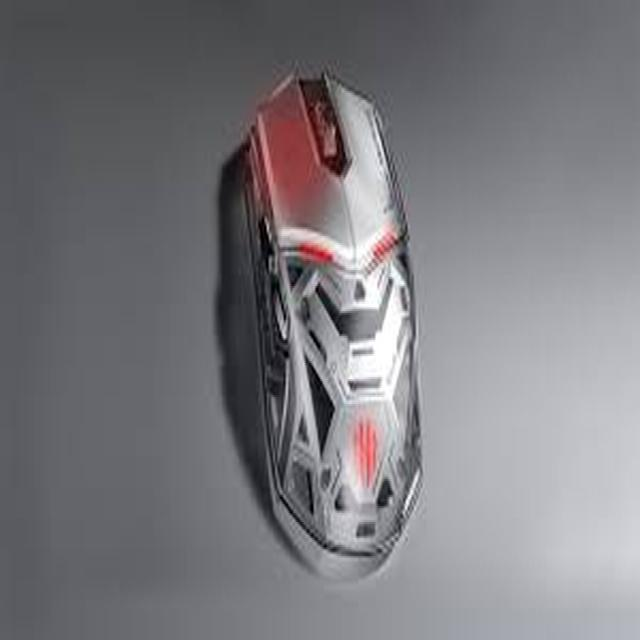mouse: (227, 54, 451, 604)
